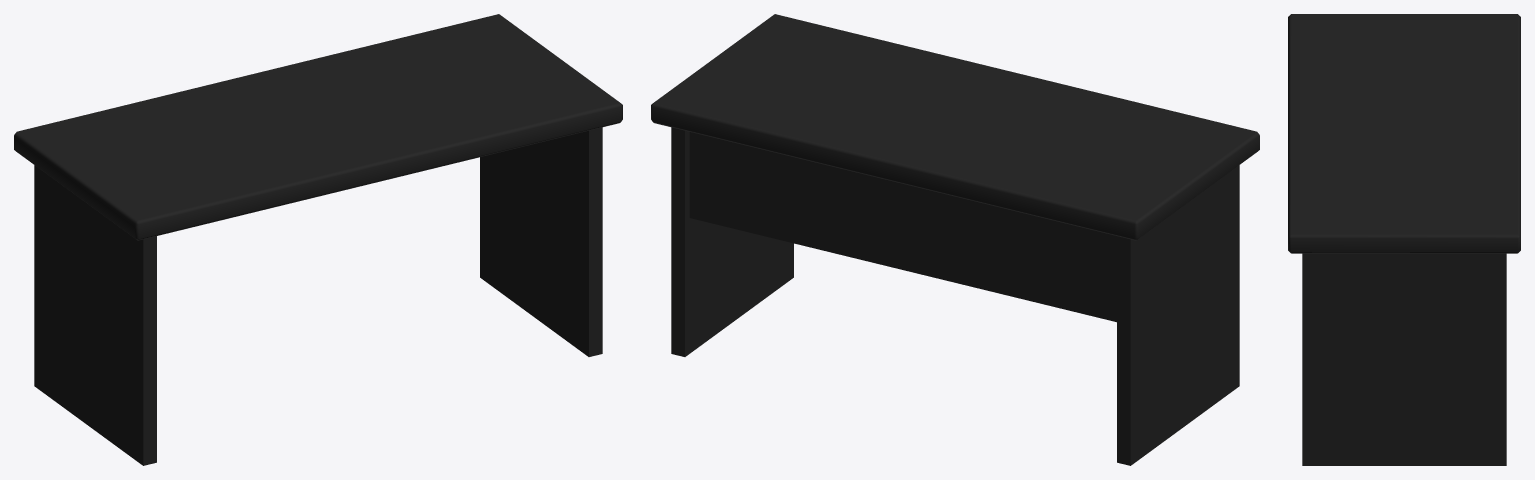
Rendered from work_table_018.fbx.
3 views of the same model, side by side, from view 1: azimuth 30°, elevation 25°; view 2: azimuth 150°, elevation 25°; view 3: azimuth 270°, elevation 25° (orthographic). The views are drawn at different scales.
Parts seen in each view (by area): view 1: work_table_018; view 2: work_table_018; view 3: work_table_018.
Boxes of the visible parts, x1,y1,x2,y2 form: work_table_018: [14, 14, 622, 465]; work_table_018: [651, 14, 1259, 465]; work_table_018: [1288, 14, 1520, 465].
Bounding box in the file's own units: 185 × 81.5 × 91.5.
